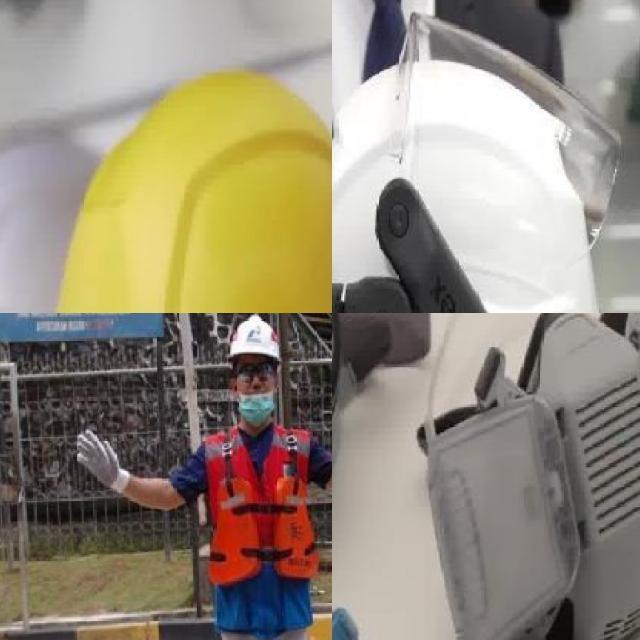apron: (75, 428, 132, 496)
